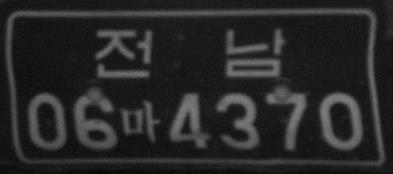0: (318, 91, 364, 152), (27, 92, 68, 151)
3: (216, 92, 260, 150)
4: (166, 91, 212, 149)
6: (72, 92, 118, 151)
7: (264, 91, 309, 153)
마: (120, 99, 160, 143)
전남_D: (96, 26, 286, 81)
